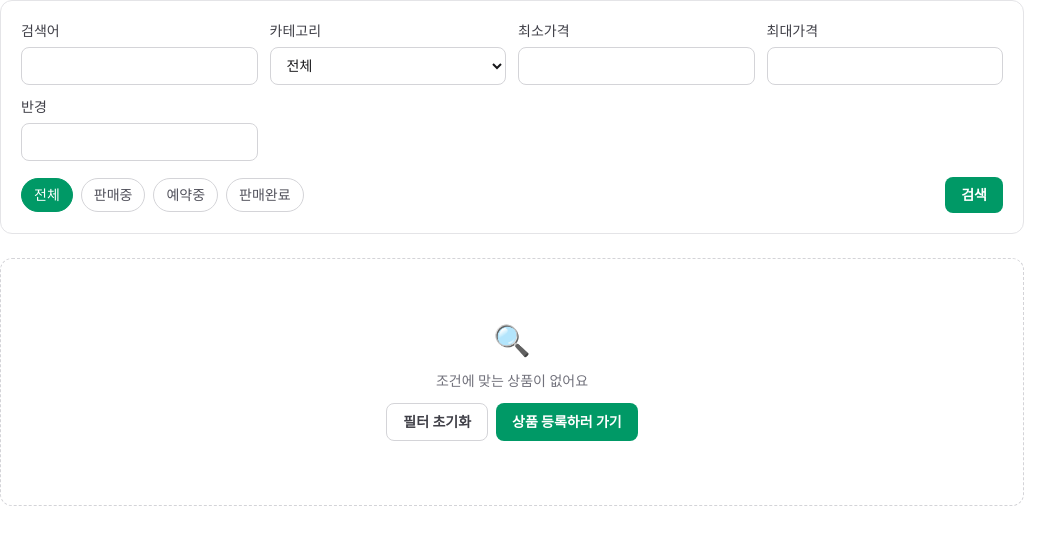
Test: ProductList › notes that the radius filter didn't apply when geolocation fails
The width and height of the screenshot is (1041, 545).
Step 1. Type "5" into the number field labelled "반경" → (139, 142), box [21,123,258,161]
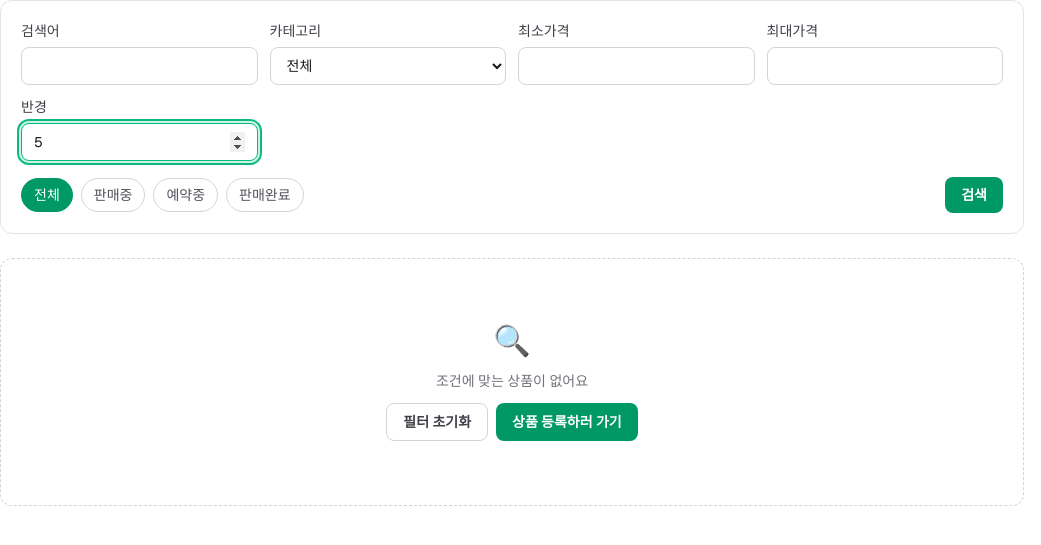
Step 2. Click the button "검색" → (974, 195), box [945,177,1003,213]
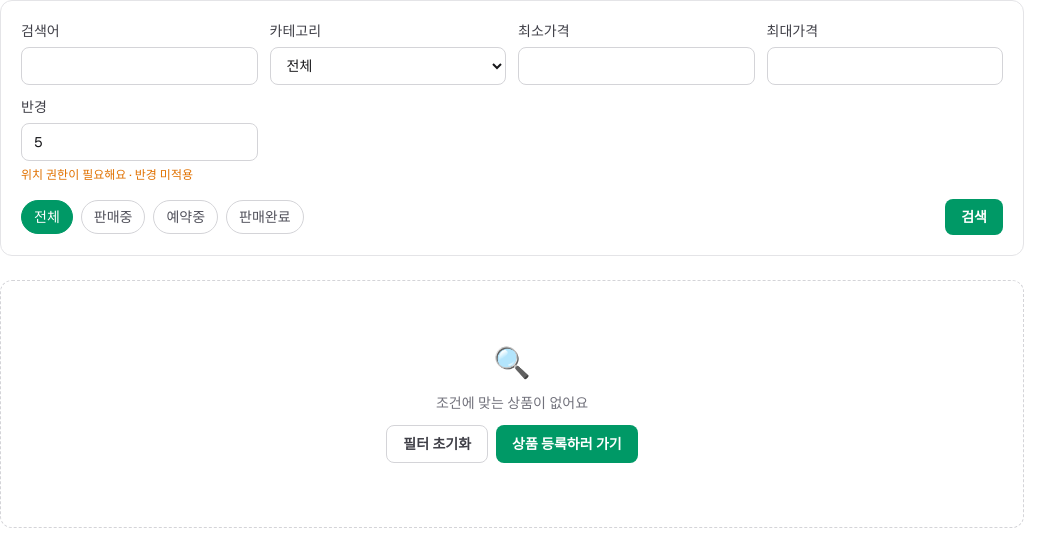
Check: the text "위치 권한이 필요해요 · 반경 미적용" is shown, box [21,167,193,183]
